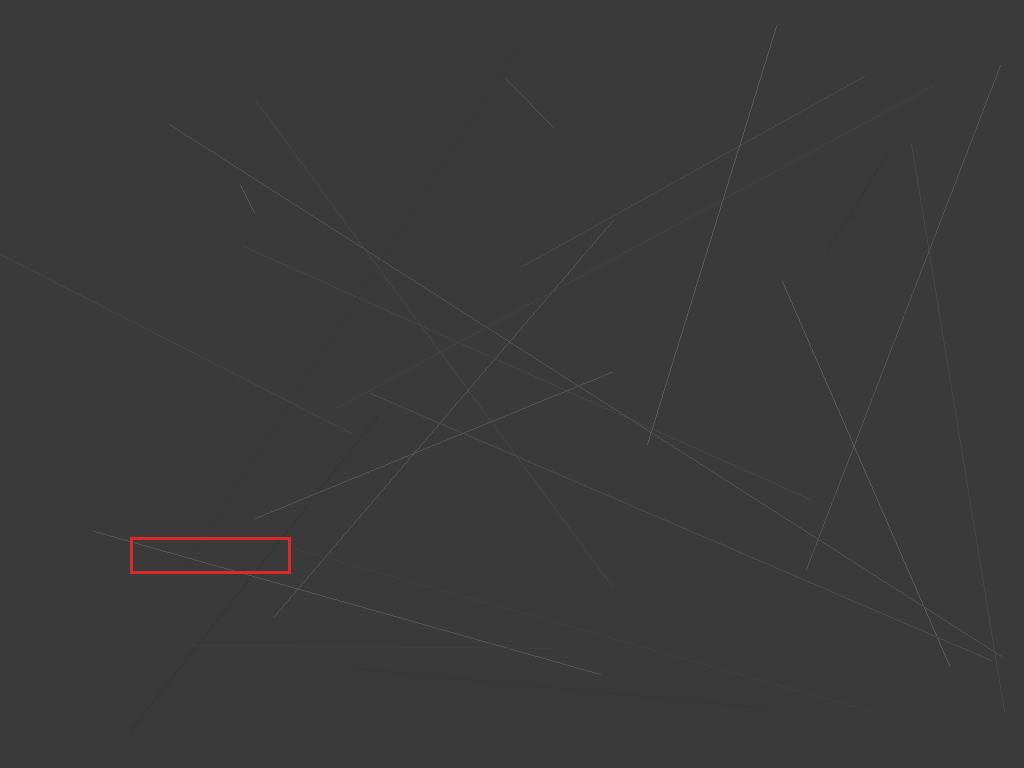D40: (130, 537, 290, 573)
